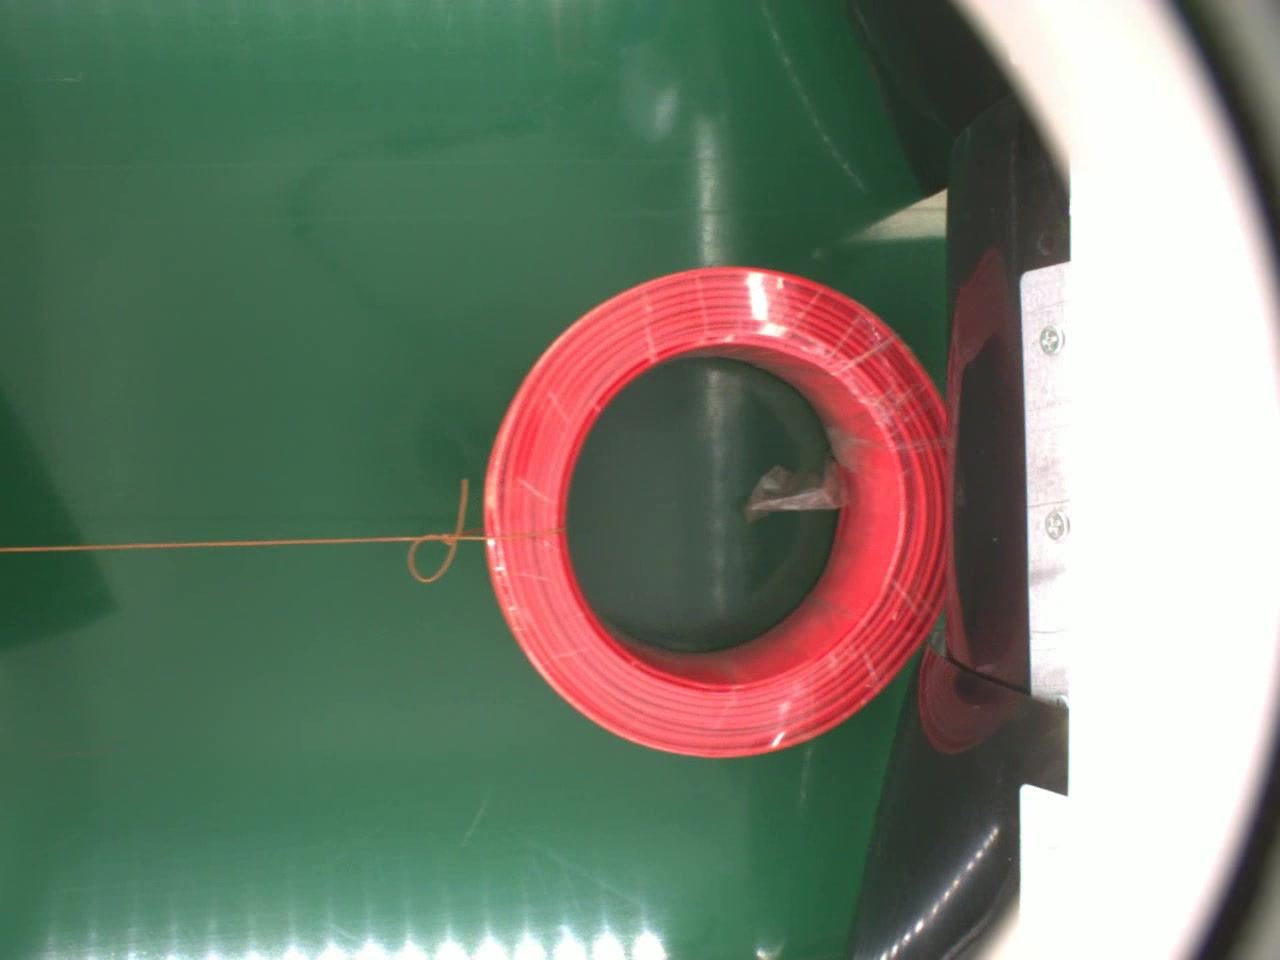red: (484, 260, 947, 760)
